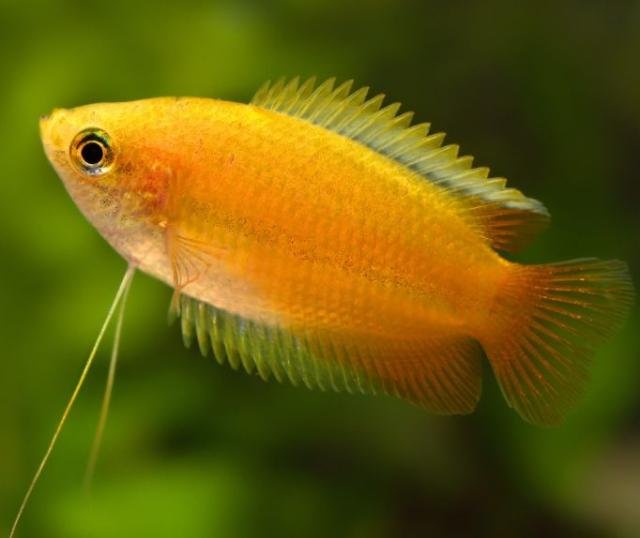Mulut: (22, 86, 84, 170)
Sirip Anal: (162, 281, 493, 427)
Sirip Dada: (142, 206, 252, 338)
Sirip Ekor: (481, 250, 639, 434)
Sirip Perut: (4, 253, 155, 538)
Sirip Punggung: (247, 68, 556, 262)
